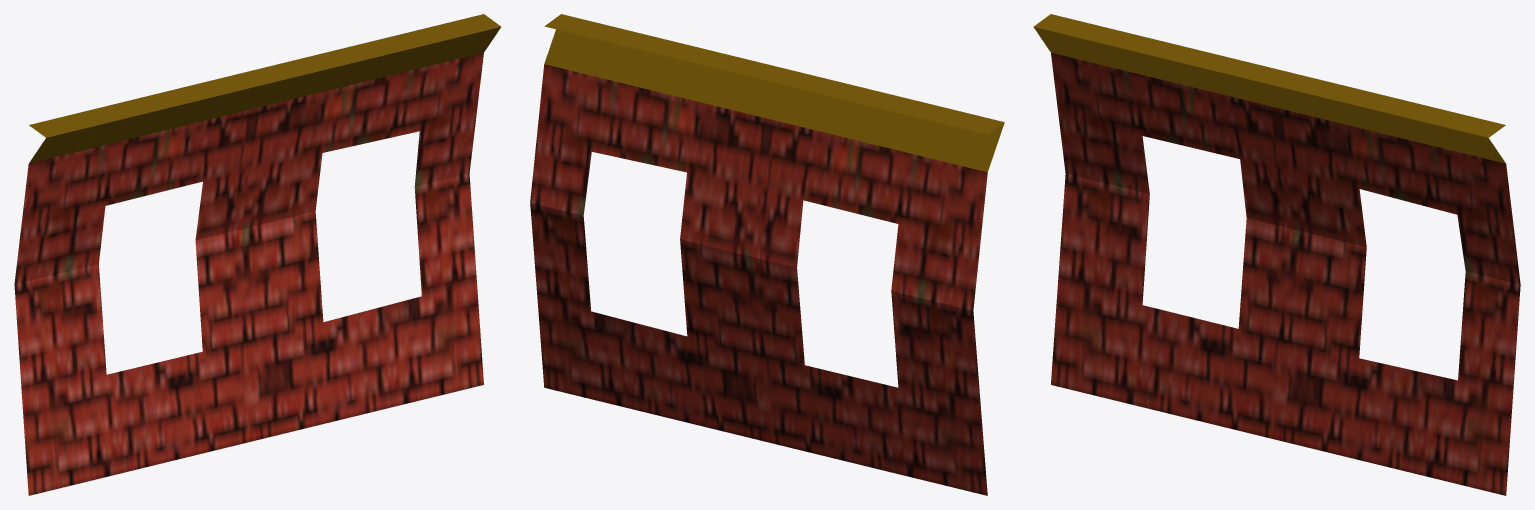
3 views of the same model, side by side, from view 1: azimuth 30°, elevation 25°; view 2: azimuth 150°, elevation 25°; view 3: azimuth 330°, elevation 25° (orthographic). The views are drawn at different scales.
Parts seen in each view (by area): view 1: polySurfaceShape1114, polySurfaceShape1116; view 2: polySurfaceShape1114, polySurfaceShape1116; view 3: polySurfaceShape1114, polySurfaceShape1116.
Part boxes in pixels (bbox=[...]): polySurfaceShape1114: bbox=[14, 52, 483, 495]; polySurfaceShape1116: bbox=[29, 14, 501, 163]; polySurfaceShape1114: bbox=[530, 64, 987, 495]; polySurfaceShape1116: bbox=[544, 14, 1004, 172]; polySurfaceShape1114: bbox=[1051, 52, 1520, 495]; polySurfaceShape1116: bbox=[1033, 14, 1505, 163].
Size of the model in its own units: 0.5 by 0.3891 by 0.0608.
Materials: 2 (1 with a texture image).
